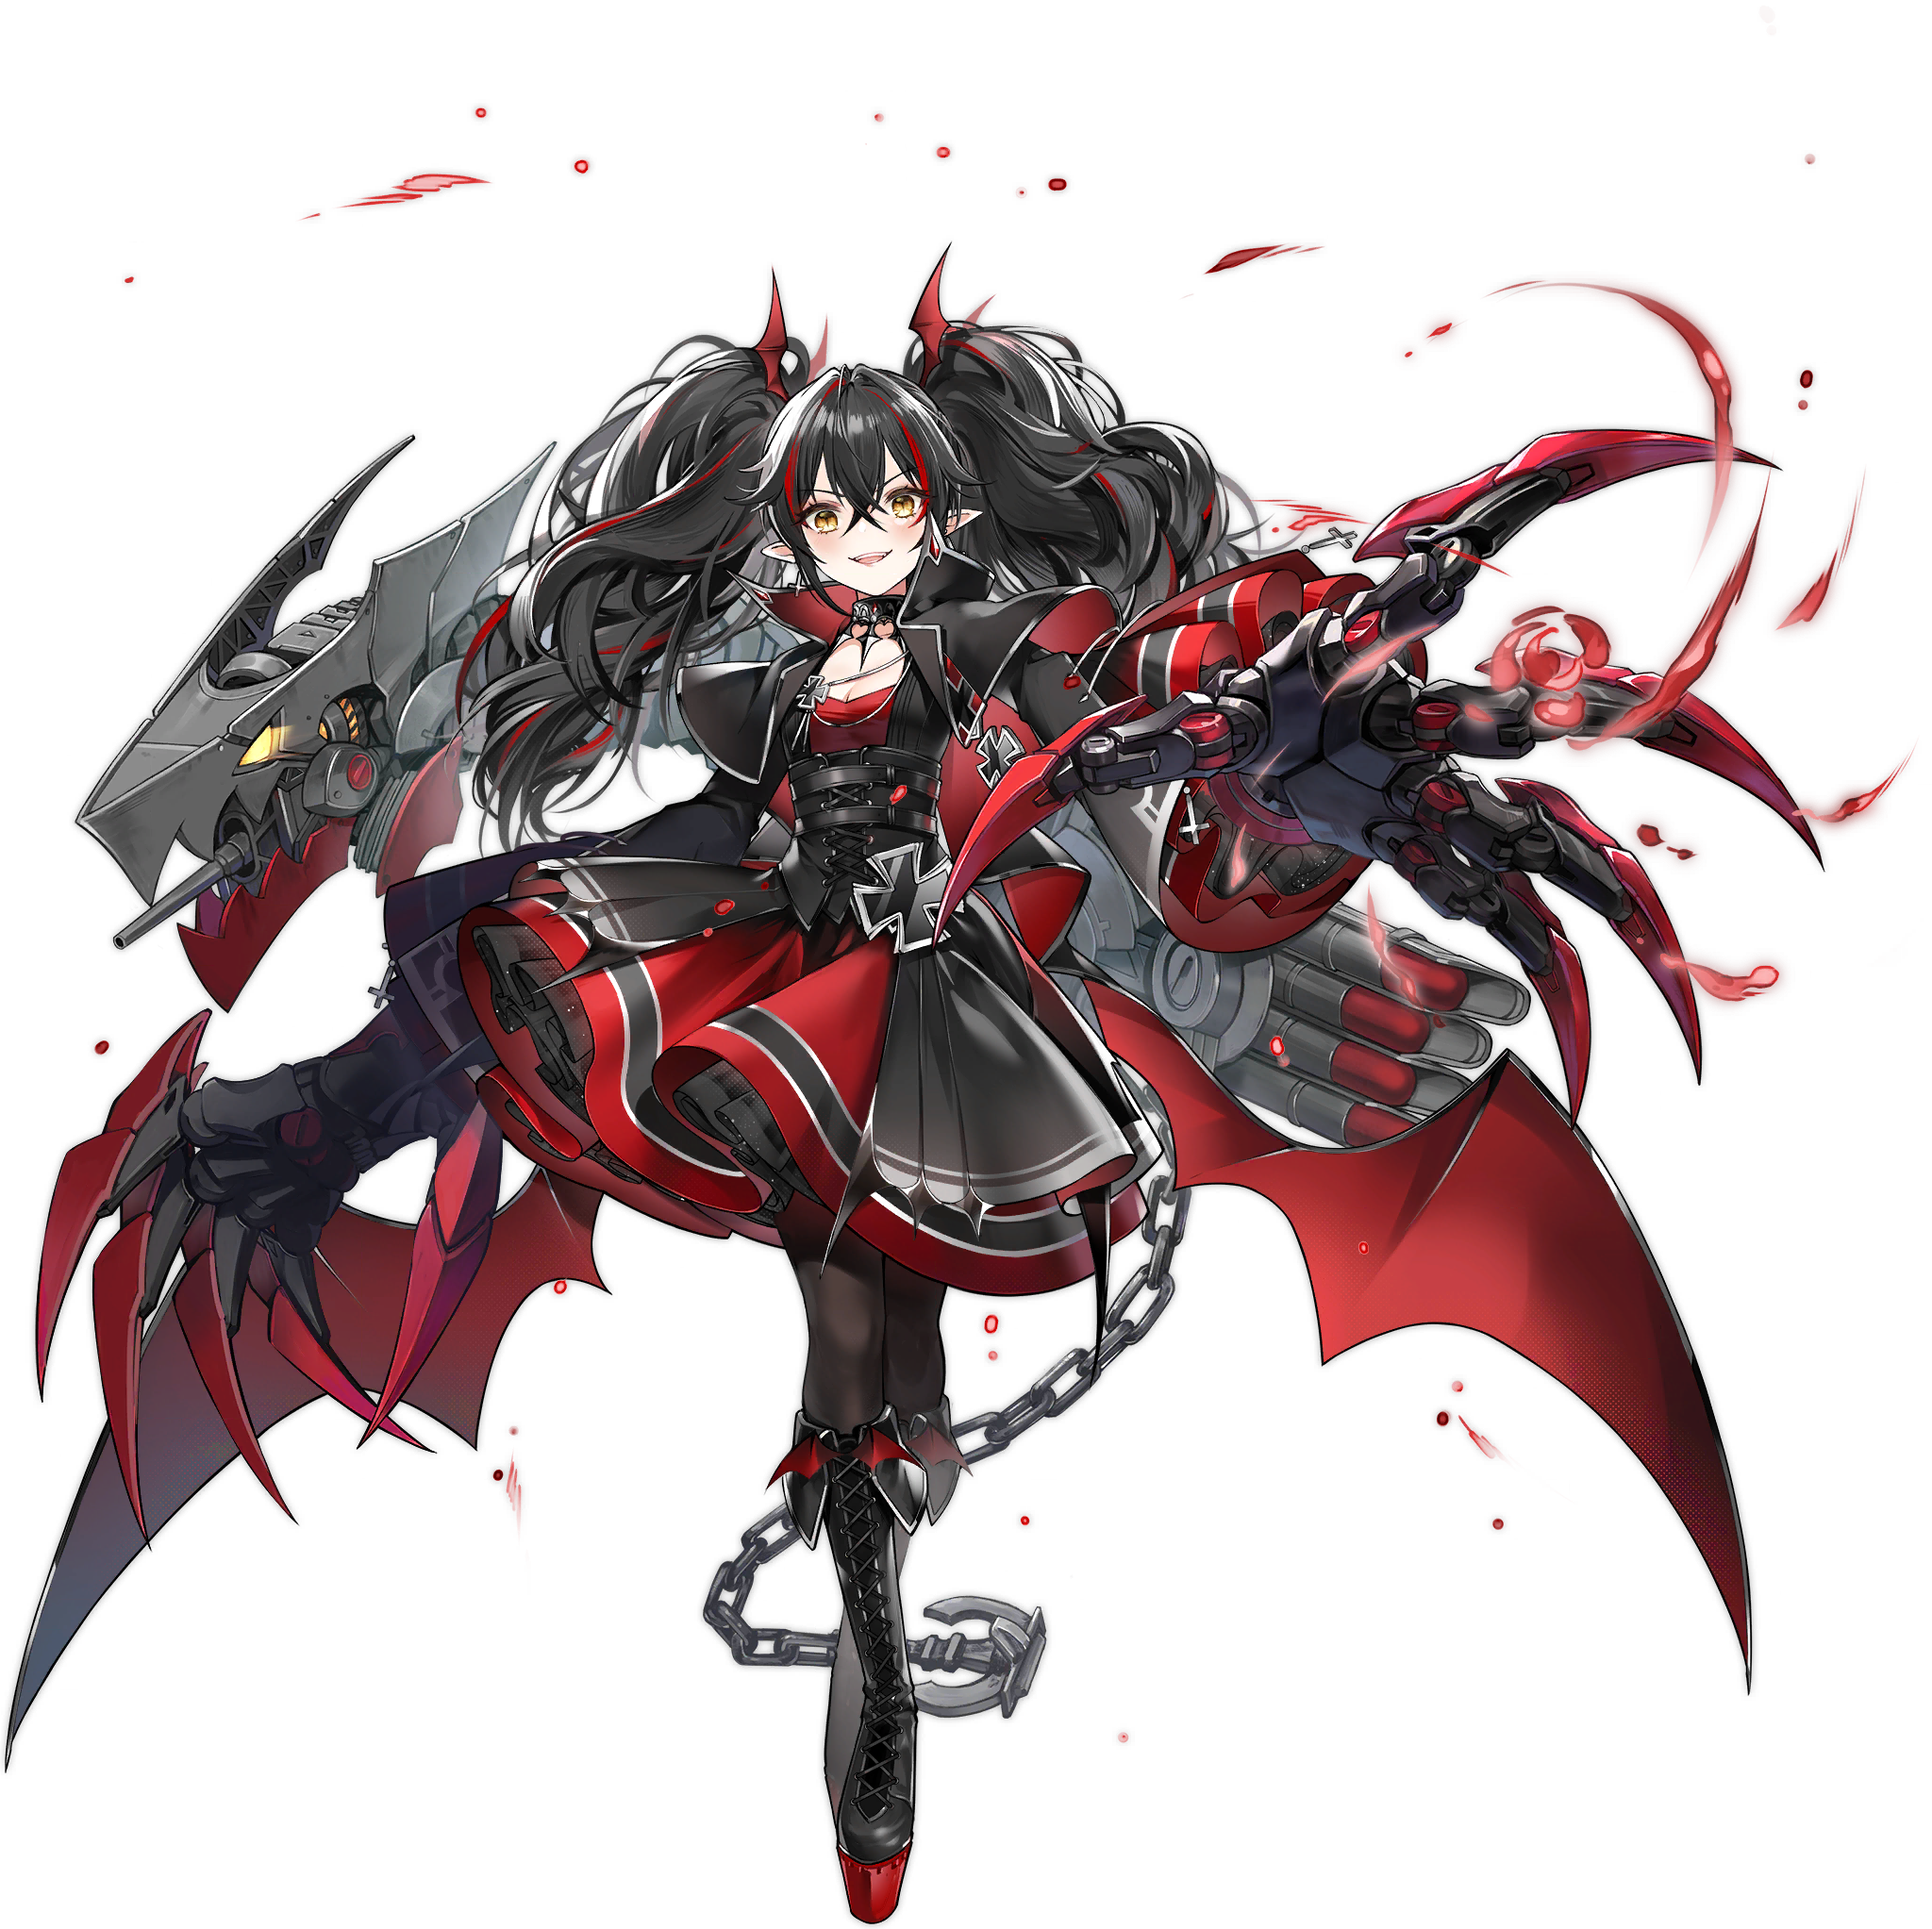person: (319, 293, 1407, 1721)
